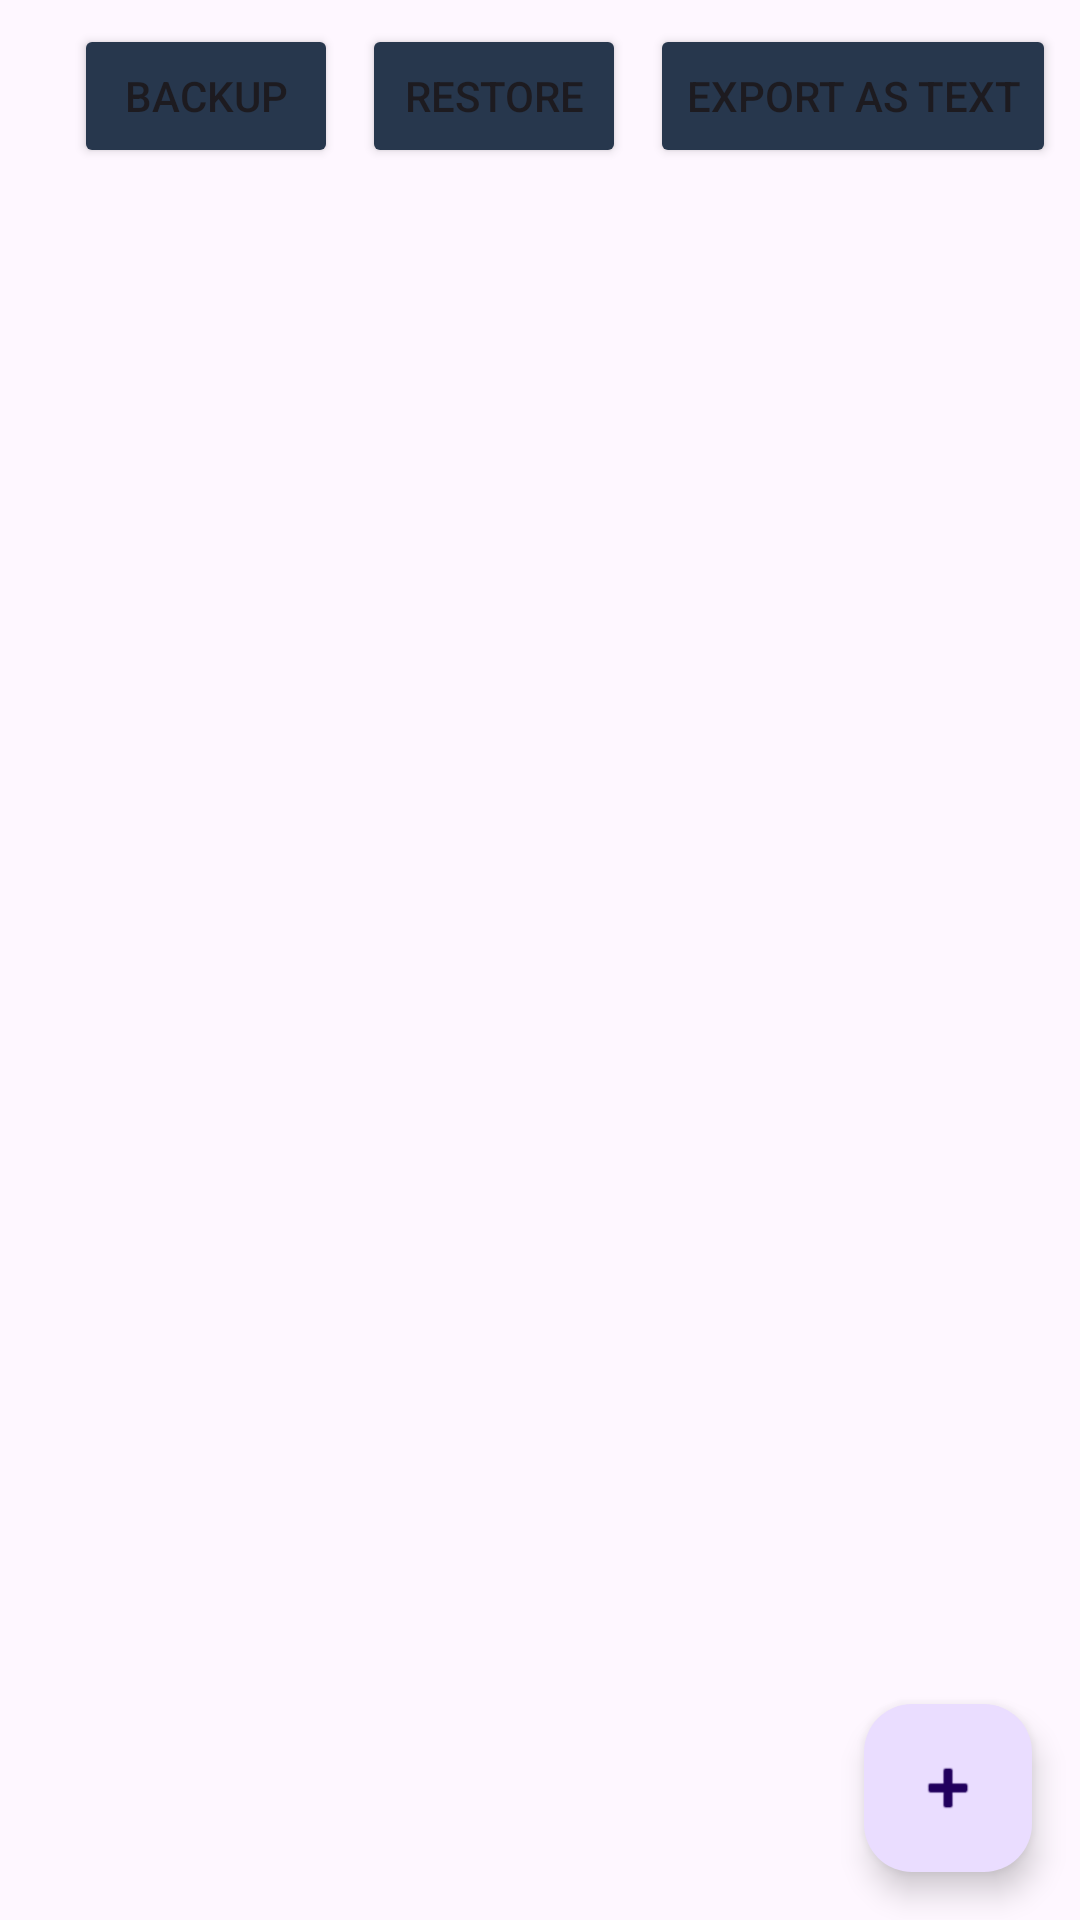

Icon click points for this 1080×1920 phone screenshot, format [x,y]:
Add Transaction: [948,1788]
